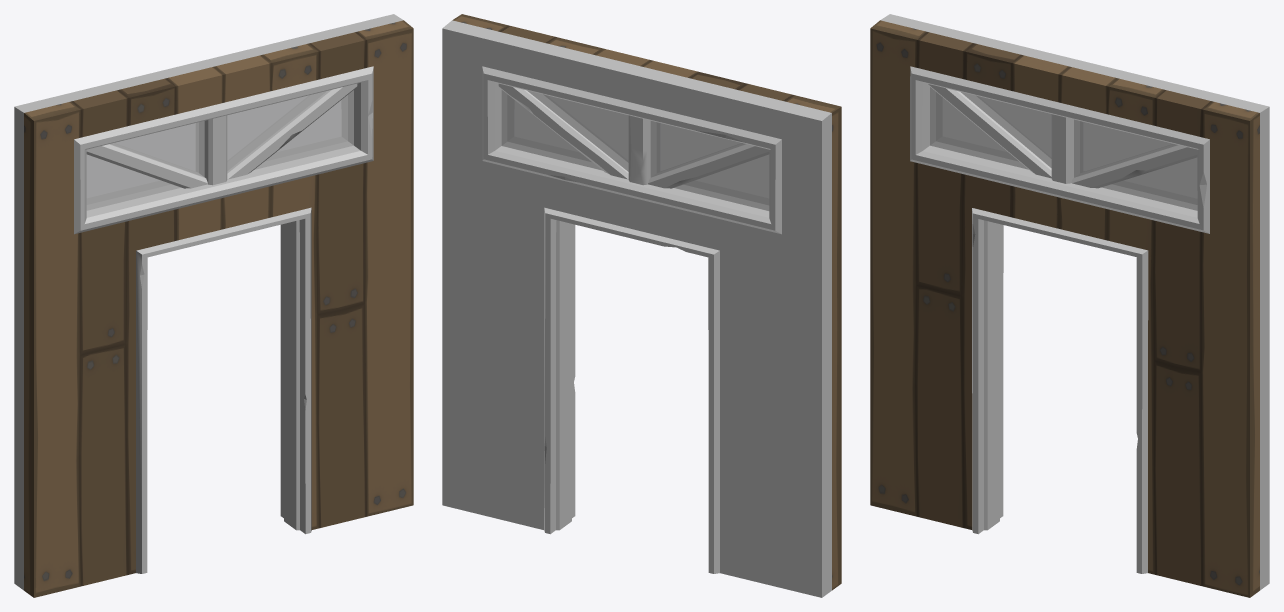
File: SM_Bld_Deco_Wall_Door_02.fbx
3 views of the same model, side by side, from view 1: azimuth 30°, elevation 25°; view 2: azimuth 150°, elevation 25°; view 3: azimuth 330°, elevation 25° (orthographic).
Parts seen in each view (by area): view 1: SM_Bld_Deco_Wall_Door_02, SM_Bld_Deco_Wall_Door_02_Glass; view 2: SM_Bld_Deco_Wall_Door_02, SM_Bld_Deco_Wall_Door_02_Glass; view 3: SM_Bld_Deco_Wall_Door_02, SM_Bld_Deco_Wall_Door_02_Glass.
Boxes of the visible parts, <box> form: SM_Bld_Deco_Wall_Door_02: <box>14,14,413,597</box>; SM_Bld_Deco_Wall_Door_02_Glass: <box>86,90,353,210</box>; SM_Bld_Deco_Wall_Door_02: <box>442,14,841,597</box>; SM_Bld_Deco_Wall_Door_02_Glass: <box>501,90,769,210</box>; SM_Bld_Deco_Wall_Door_02: <box>870,14,1269,597</box>; SM_Bld_Deco_Wall_Door_02_Glass: <box>930,87,1197,210</box>.
Bounding box in the file's own units: 250 × 301 × 28.8.
